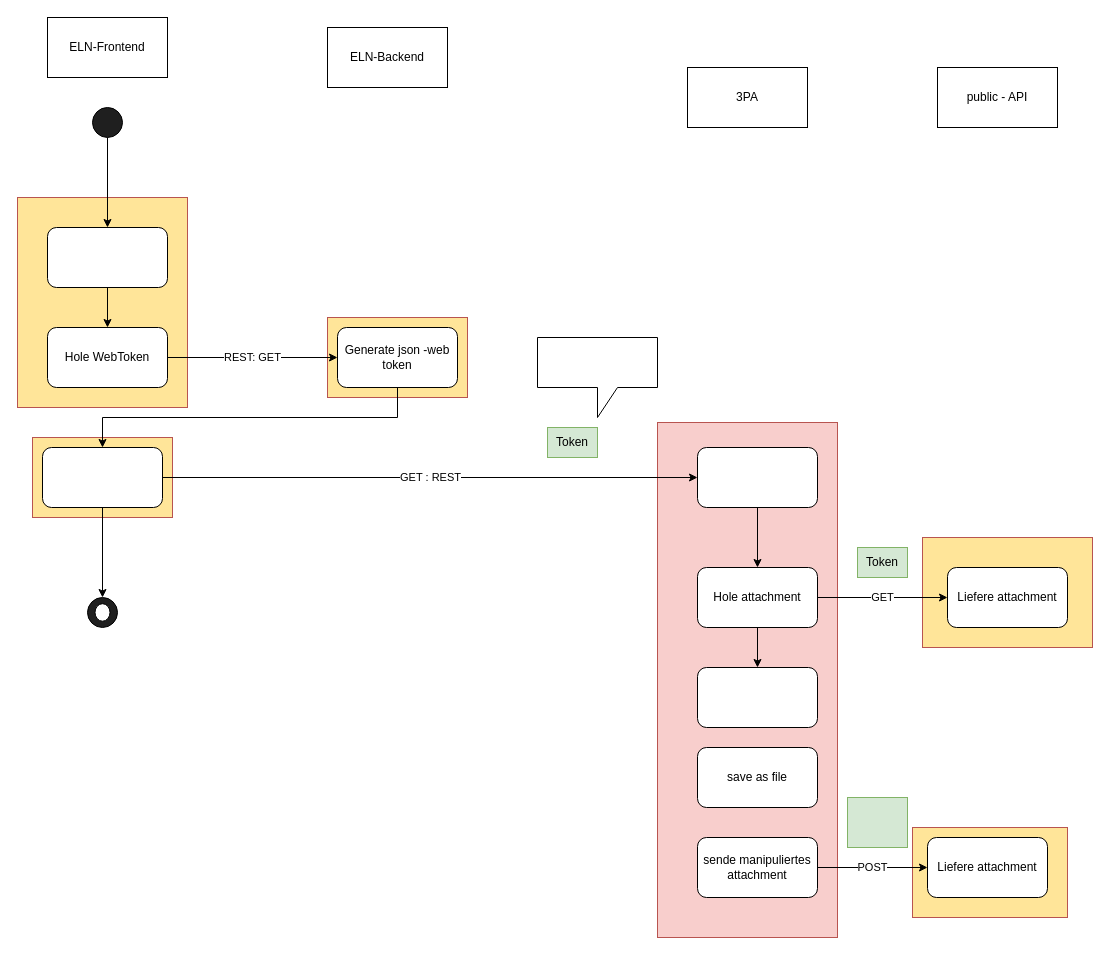
Image size: 1110x955. Some labels were removed from this diagram. Each missing label, with the centre of its shape:
Baue request zusammen: (x=102, y=477)
mache was ...: (x=757, y=697)
Nutzer wählt in Dropdown 3rd Party App aus: (x=107, y=257)
starte process: (x=757, y=477)
Token + File: (x=877, y=822)
user_id attachment_id: (x=597, y=377)
